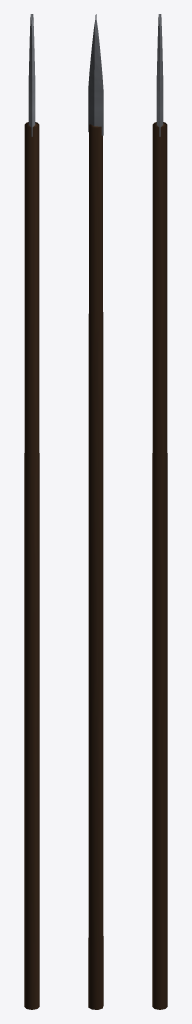
Rendered from yari.glb.
The picture shows the model from 3 angles, left to right: view 1: azimuth 90°, elevation 25°; view 2: azimuth 150°, elevation 25°; view 3: azimuth 270°, elevation 25°; orthographic projection.
Parts seen in each view (by area): view 1: yari; view 2: yari; view 3: yari.
Boxes of the visible parts, x1=… form: yari: x1=24, y1=14, x2=39, y2=1009; yari: x1=88, y1=14, x2=103, y2=1009; yari: x1=152, y1=14, x2=167, y2=1009.
Bounding box in the file's own units: 0.036 × 2.24 × 0.032.
Materials: 1 (1 with a texture image).
